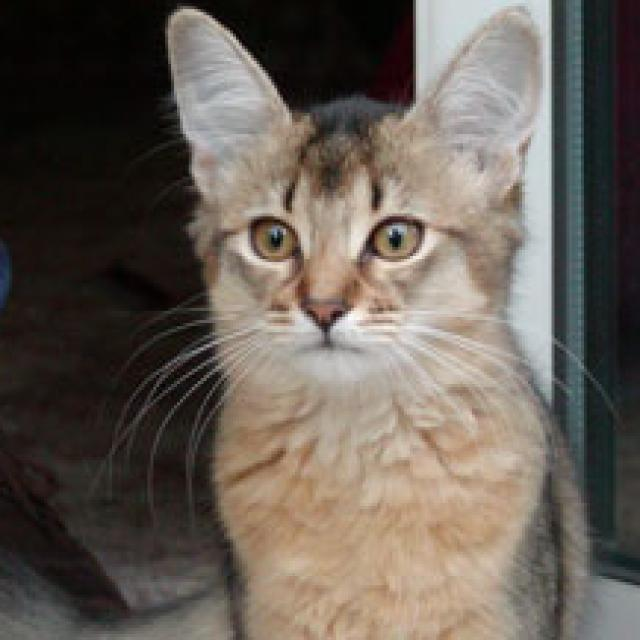Abyssinian: (159, 0, 596, 640)
